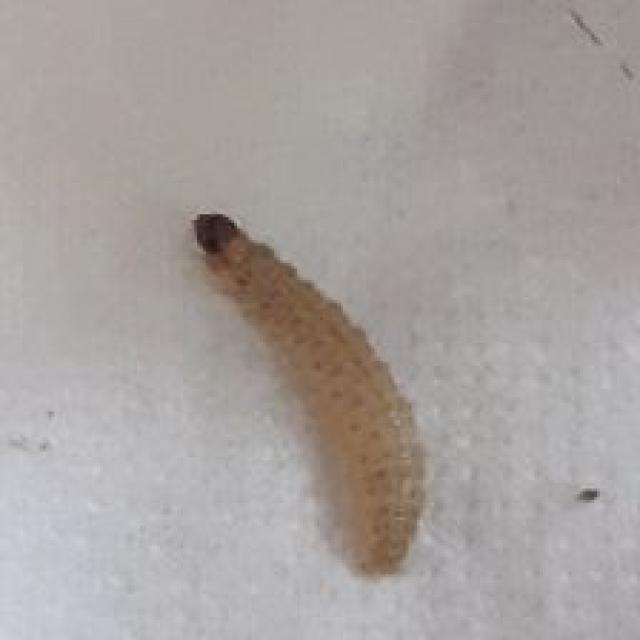white mucus: (126, 186, 466, 572)
